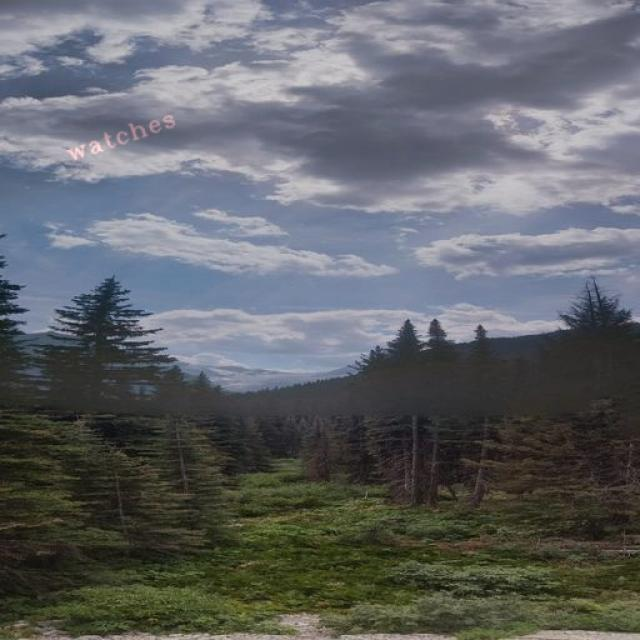watermark: (62, 106, 178, 165)
